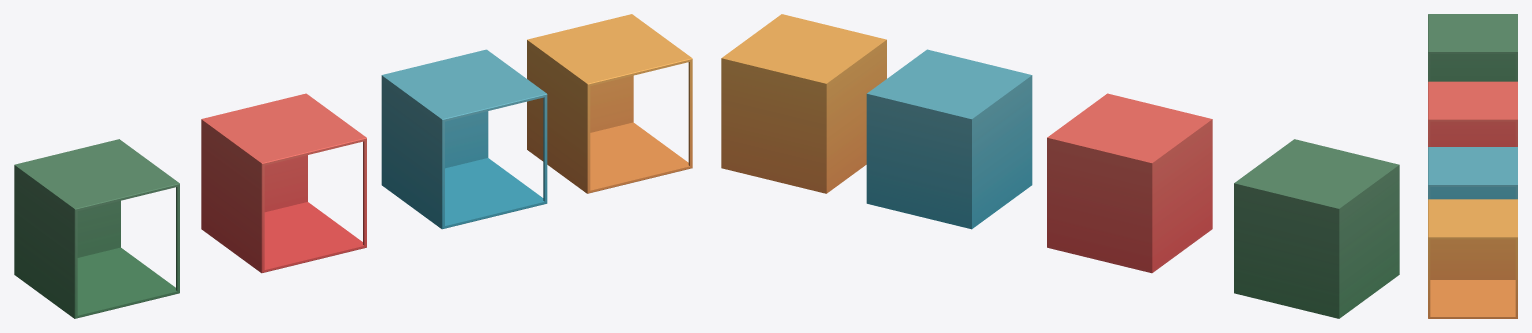
File: playbox.fbx
The picture shows the model from 3 angles, left to right: view 1: azimuth 30°, elevation 25°; view 2: azimuth 150°, elevation 25°; view 3: azimuth 270°, elevation 25°; orthographic projection. The views are drawn at different scales.
Parts seen in each view (by area): view 1: playbox.003, playbox.002, playbox, playbox.001; view 2: playbox.003, playbox, playbox.002, playbox.001; view 3: playbox.001, playbox, playbox.002, playbox.003.
Boxes of the visible parts, x1,y1,x2,y2 form: playbox.003: (381,49,547,229); playbox.002: (201,93,366,273); playbox: (14,139,179,318); playbox.001: (527,14,692,193); playbox.003: (866,49,1032,229); playbox: (1234,139,1399,318); playbox.002: (1047,93,1212,273); playbox.001: (721,14,886,193); playbox.001: (1428,199,1517,318); playbox: (1428,14,1517,81); playbox.002: (1428,81,1517,146); playbox.003: (1428,147,1517,199).
Bounding box in the file's own units: 235 × 40 × 40.
